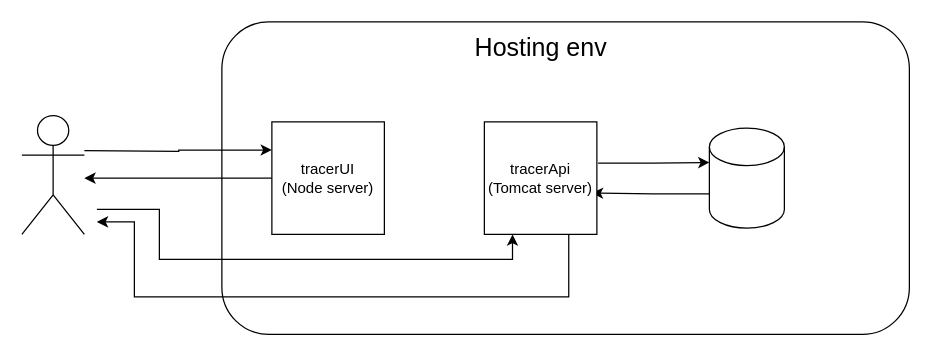
This 931x356 diagram has some shape labels left out. Each missing label, with the centre of its shape:
"Browser" goes at pixel 52 174.
"tracer DB" goes at pixel 746 177.
